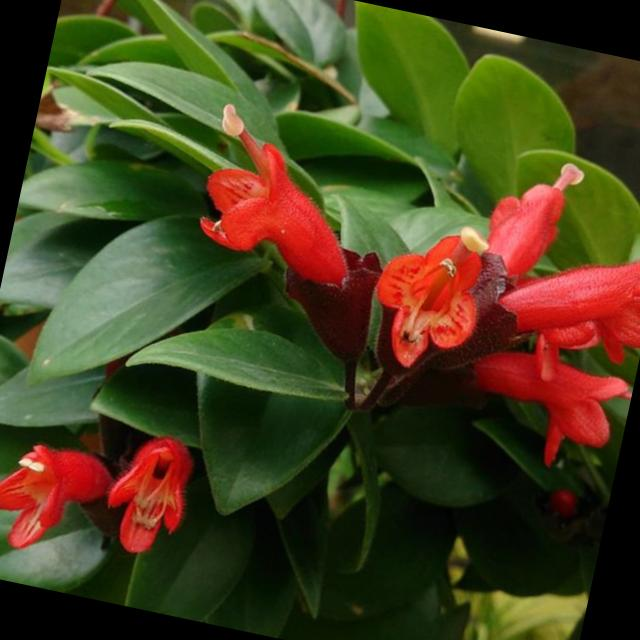Lipstick-Plant: (131, 54, 640, 495), (0, 368, 238, 599)
